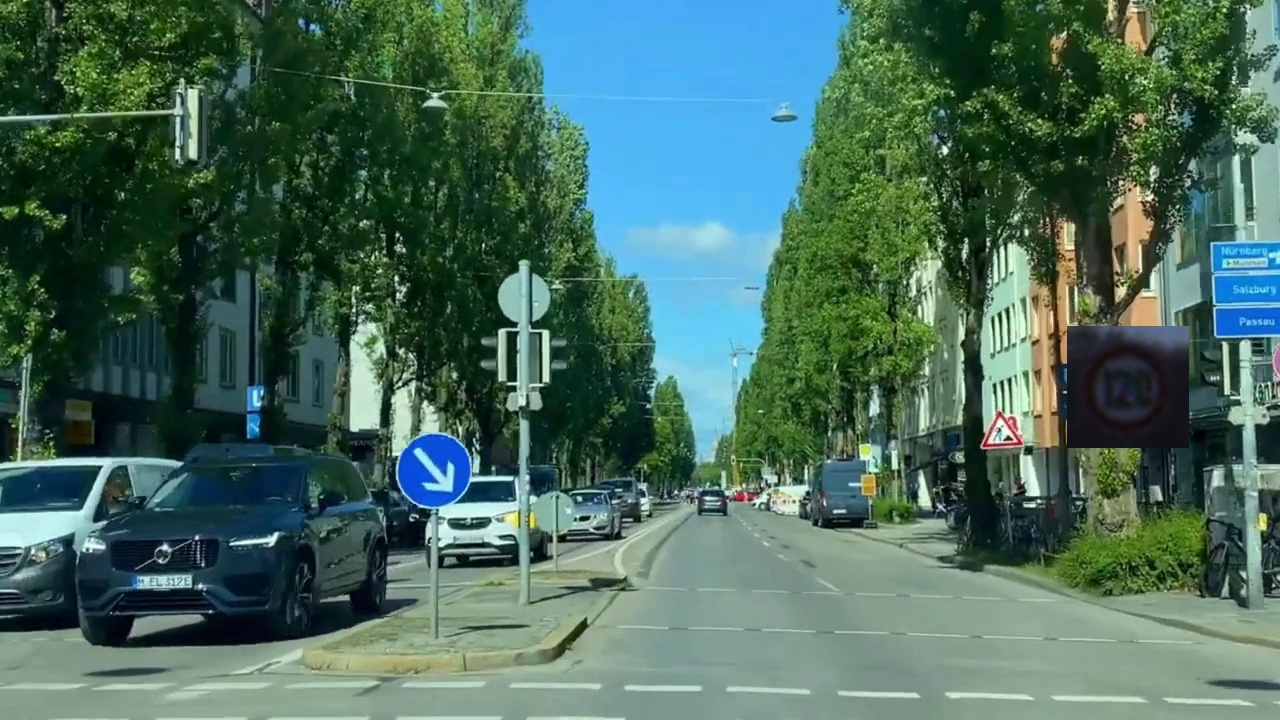Speed 120: (1067, 326, 1189, 448)
